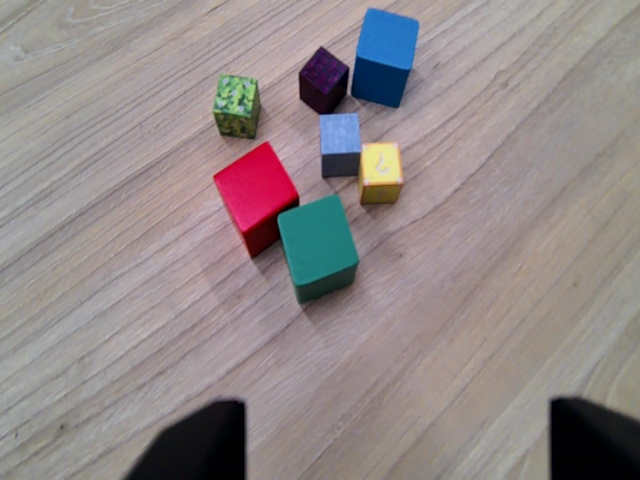brick: (298, 48, 349, 111)
grass: (212, 73, 263, 137)
lucky: (362, 144, 401, 204)
stone: (318, 114, 360, 177)
